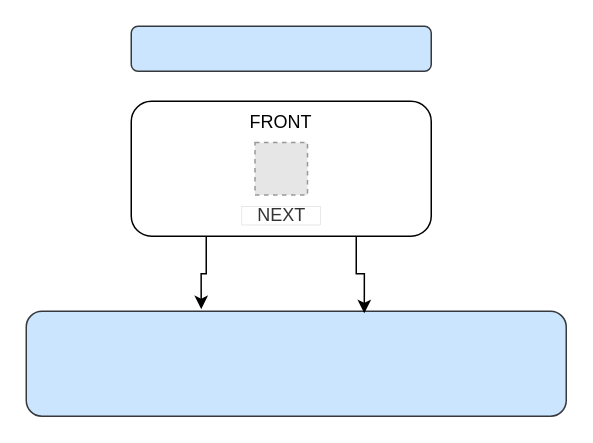
This 593x443 diagram has some shape labels left out. Grey dashed boxes stand in for pictures. Here are the shapes that lost their labels. From the top down, the box of each, then its label:
(130, 25, 431, 71): NEW STELLAR WEB STORE
(25, 310, 566, 416): API GATEWAY
